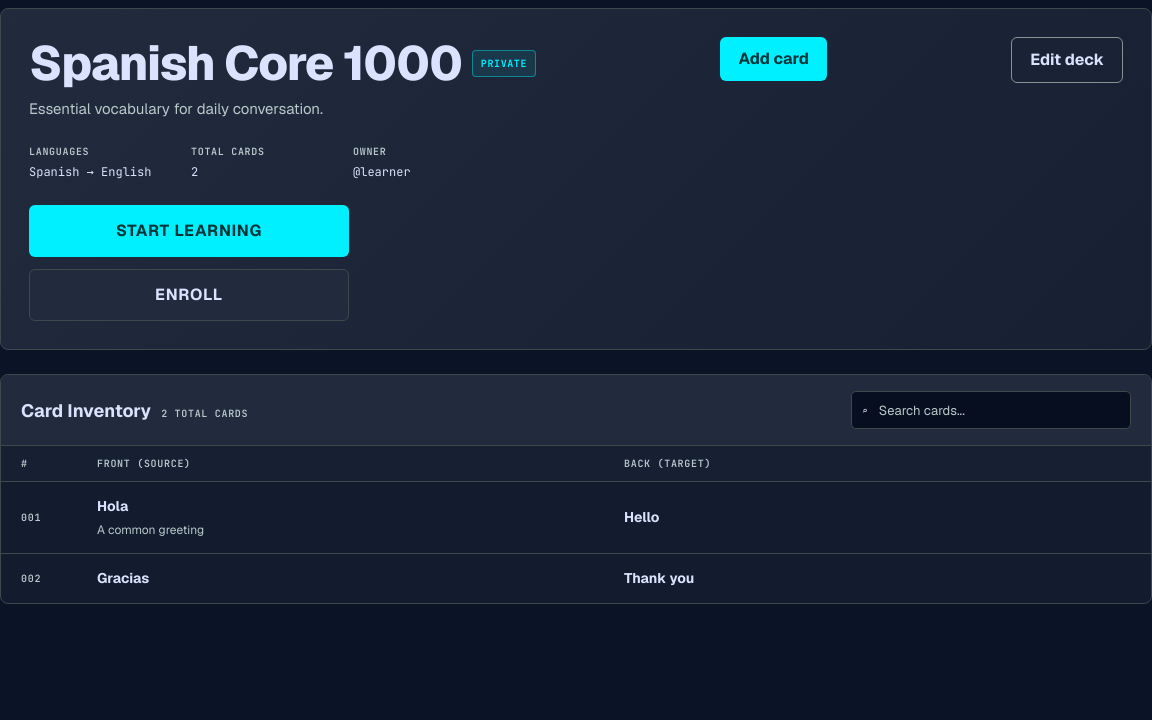
Test case: OwnerDeckDetailsPage › filters cards by source or target text
The width and height of the screenshot is (1152, 720).
Expected: the text "Hola" is shown, [97,497,128,515]
Type "thank" into the search field named "Search cards" at (998, 410), box [877,400,1120,421]
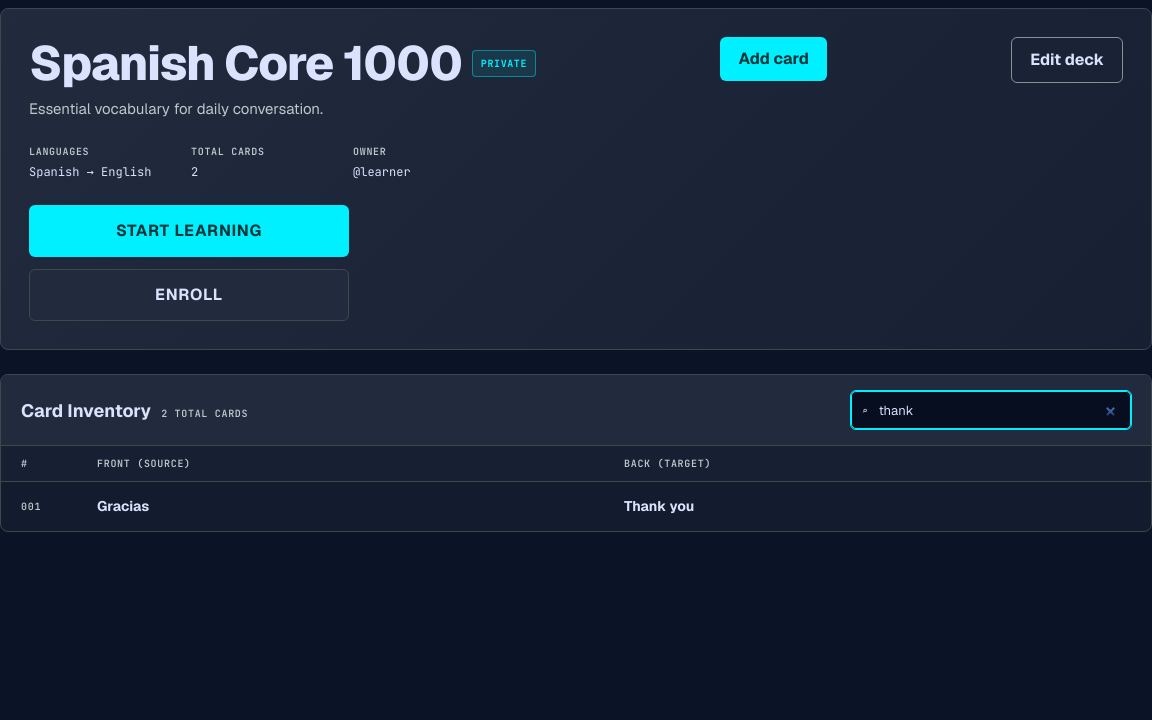
Expected: the text "Gracias" is shown, [97,497,149,515]
Expected: the text "Hola" is gone
